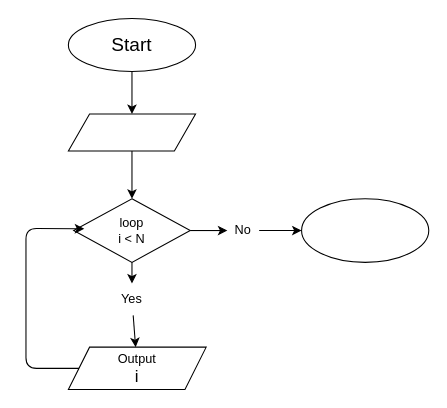
The diagram is 447 pixels wide and 408 high, and some of its shapes have lost their labels. Each missing label, with the centre of its shape:
"Input N" goes at point (131, 132).
"Stop" goes at point (365, 230).
